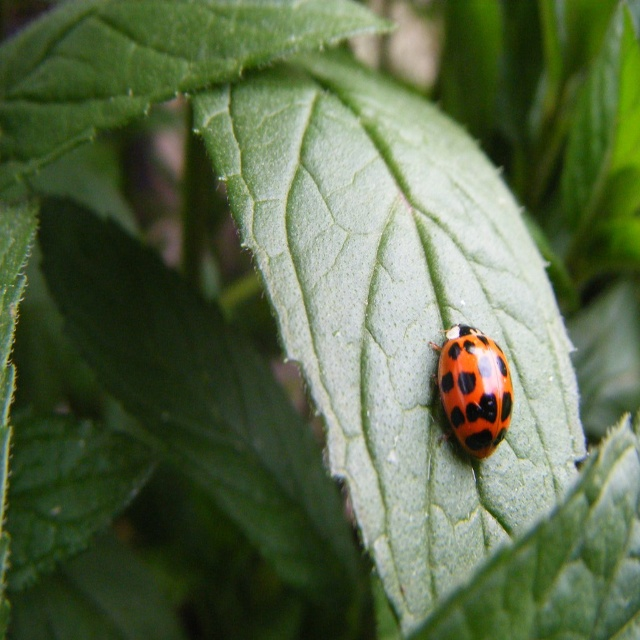Ladybug: (428, 323, 514, 460)
